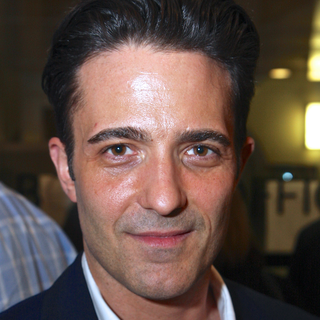eye: (178, 140, 224, 165), (95, 140, 142, 164)
